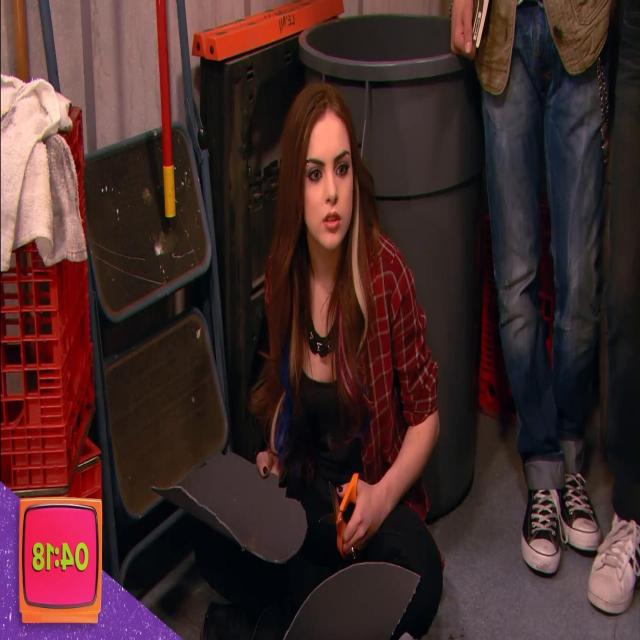scissor: (320, 474, 359, 554)
